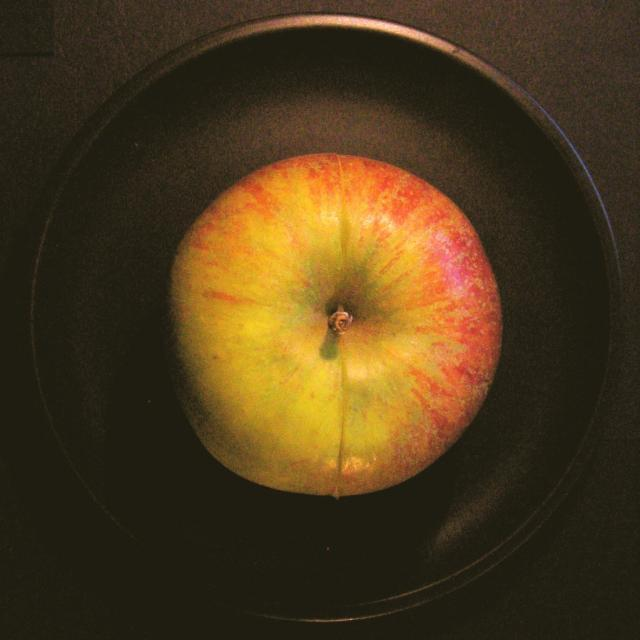Apple: (168, 151, 503, 498)
